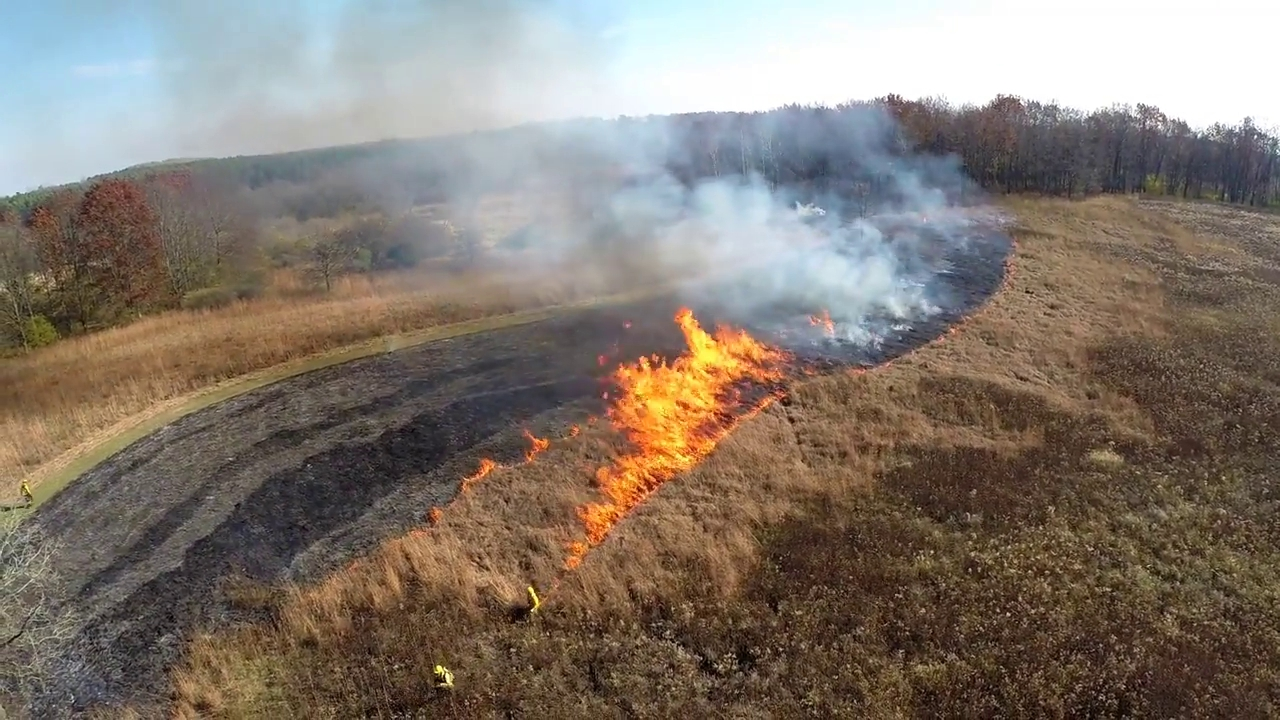forest_fire: (565, 309, 780, 568), (460, 458, 503, 492), (523, 430, 550, 462)
